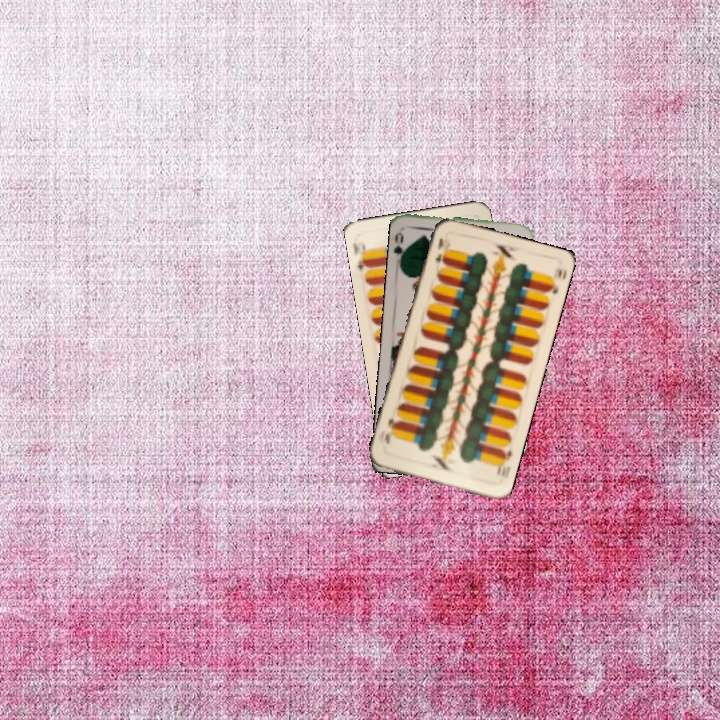E10: (493, 445, 514, 481), (352, 239, 373, 273), (431, 234, 446, 266)
GO: (391, 228, 411, 268)
